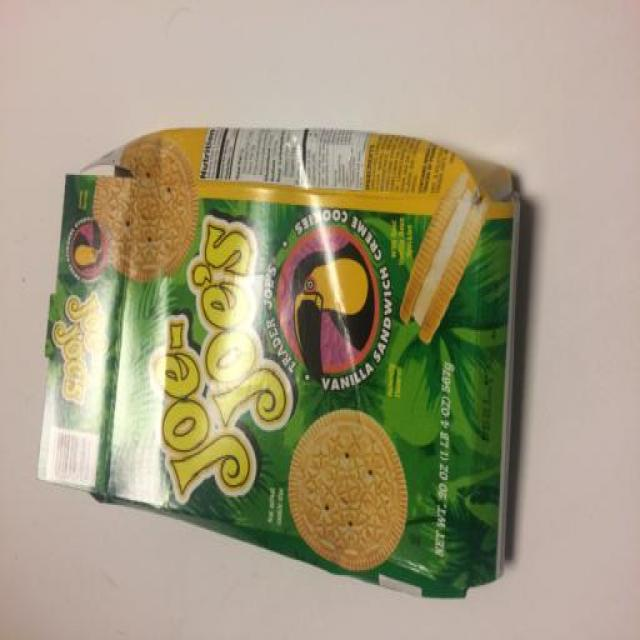plastic: (33, 104, 551, 640)
